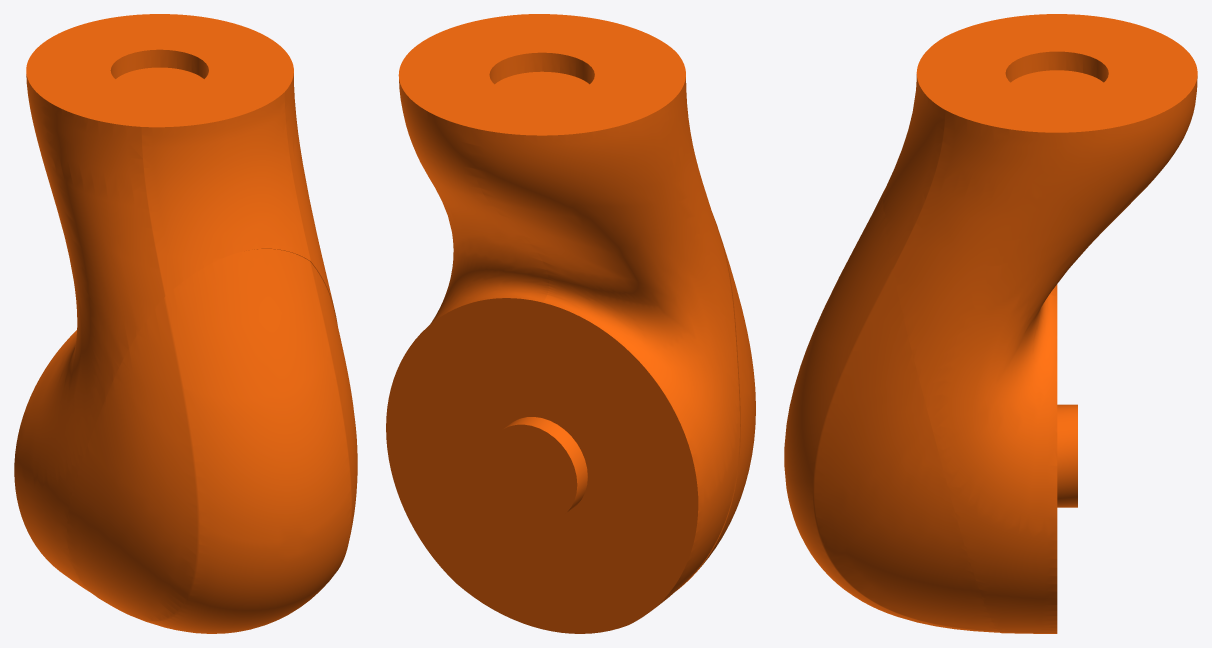
3 views of the same model, side by side, from view 1: azimuth 30°, elevation 25°; view 2: azimuth 150°, elevation 25°; view 3: azimuth 270°, elevation 25° (orthographic). The views are drawn at different scales.
Visible parts, largest first — view 1: link_2; view 2: link_2; view 3: link_2.
Boxes of the visible parts, <box> form: link_2: <box>14,14,357,633</box>; link_2: <box>386,14,755,633</box>; link_2: <box>784,14,1197,633</box>.
Size of the model in its own units: 0.171 by 0.29 by 0.2001.
